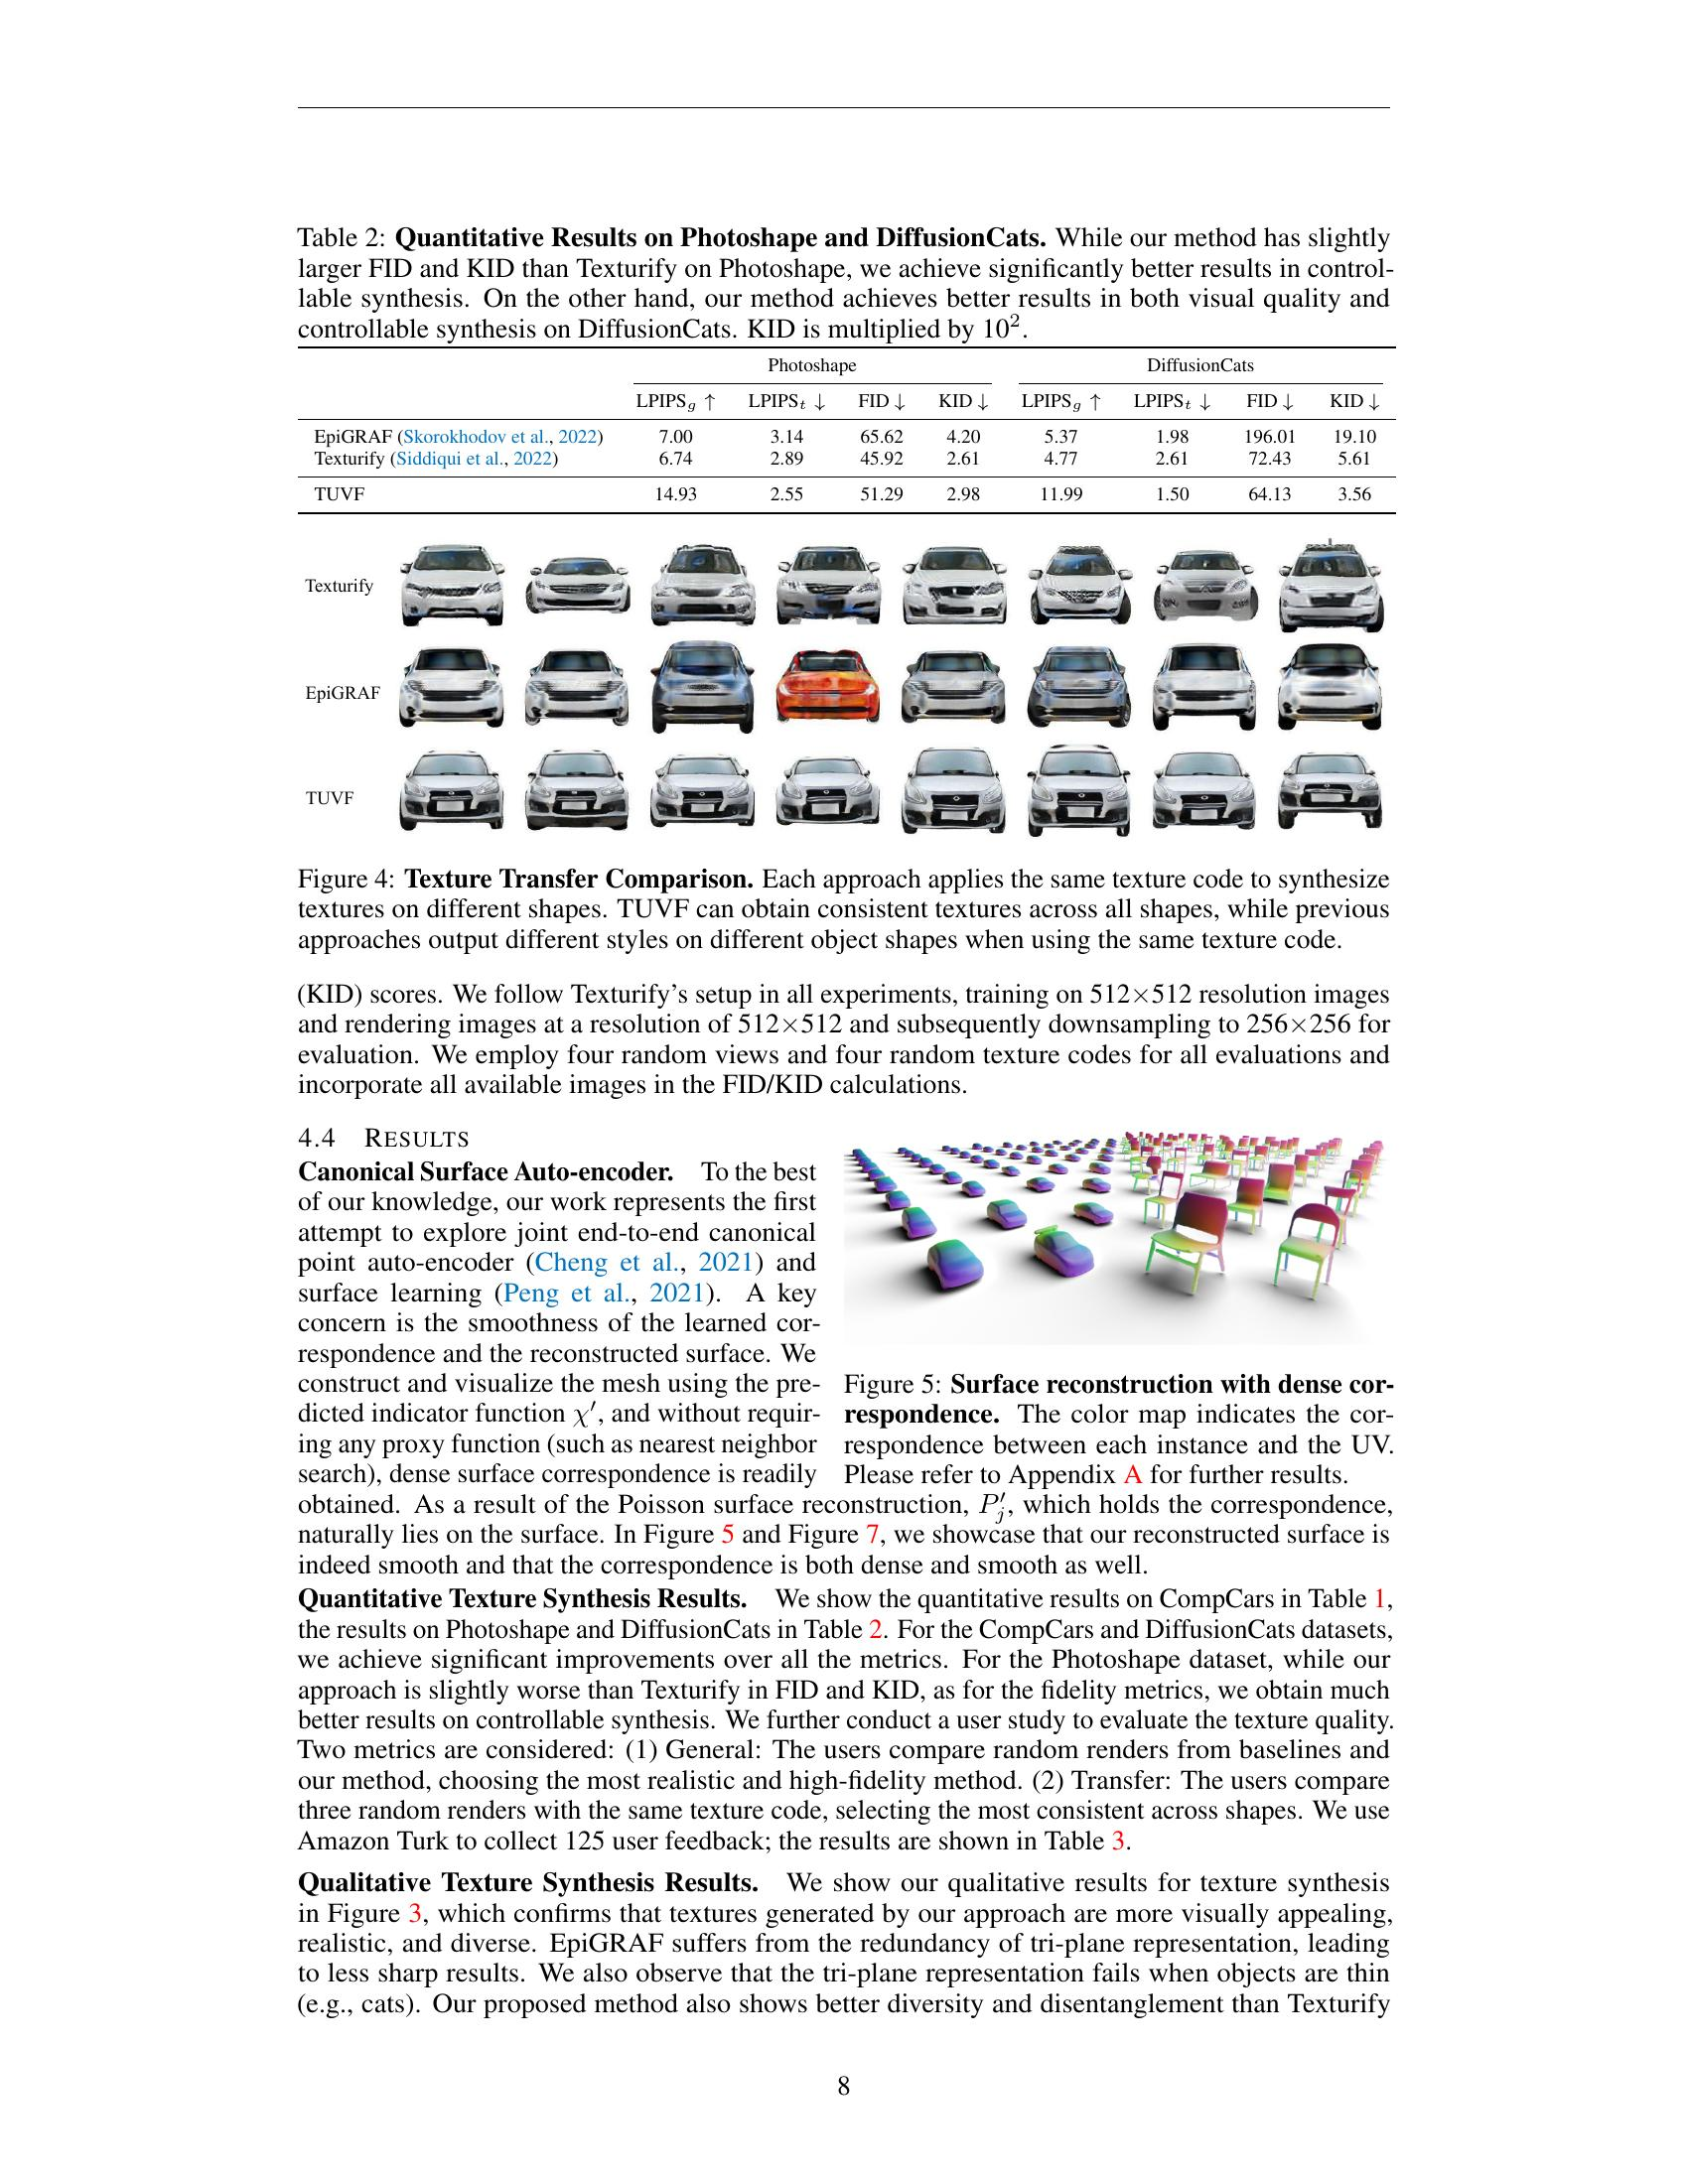figure: (287, 535, 1399, 963), (837, 1126, 1403, 1493)
table: (287, 213, 1403, 516)
text: (287, 1583, 1399, 1860), (287, 1119, 826, 1493), (287, 1865, 1399, 2030), (287, 973, 1399, 1106), (287, 1491, 1399, 1583)
